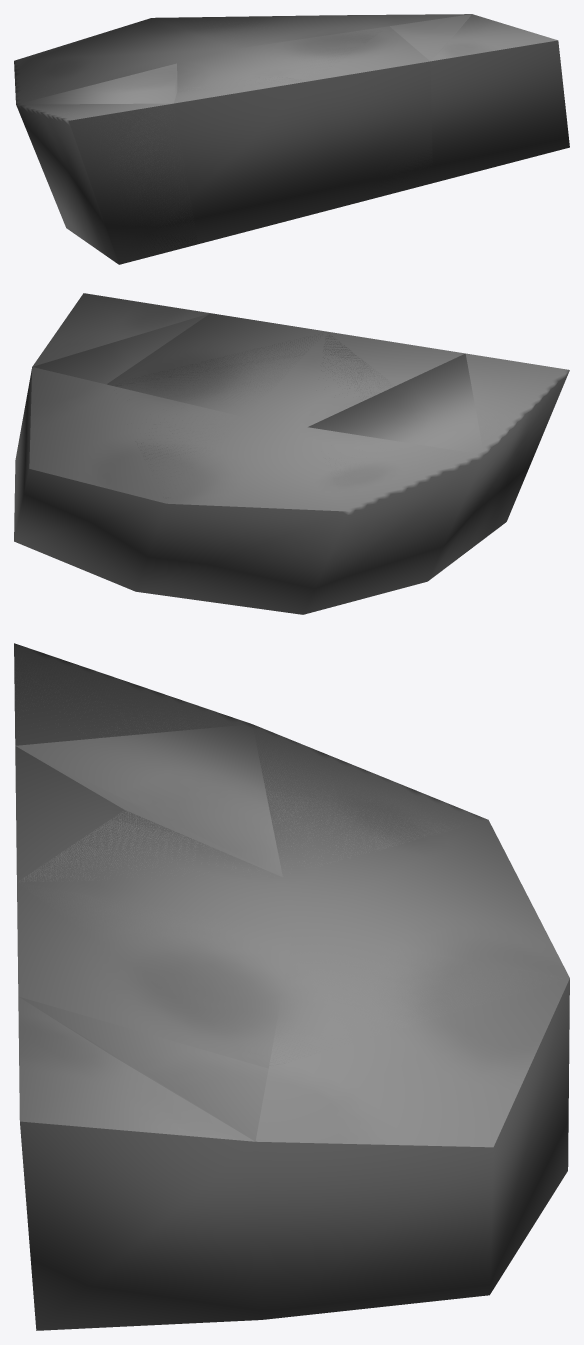
File: obj_BreadSlice.fbx
3 views of the same model, one above another, from view 1: azimuth 30°, elevation 25°; view 2: azimuth 150°, elevation 25°; view 3: azimuth 270°, elevation 25° (orthographic). The views are drawn at different scales.
Visible parts, largest first — view 1: obj_BreadToast01, obj_BreadToast02, obj_BreadToast07, obj_BreadToast03, obj_BreadToast05, obj_BreadToast06; view 2: obj_BreadToast01, obj_BreadToast03, obj_BreadToast07, obj_BreadToast02, obj_BreadToast05, obj_BreadToast06; view 3: obj_BreadToast01, obj_BreadToast03, obj_BreadToast07, obj_BreadToast02, obj_BreadToast06, obj_BreadToast05, obj_BreadToast04.
Part boxes in pixels (box(x1,y1,x2,y2)): obj_BreadToast01: box(14, 14, 569, 264); obj_BreadToast02: box(314, 14, 471, 205); obj_BreadToast07: box(16, 63, 197, 264); obj_BreadToast03: box(156, 18, 429, 80); obj_BreadToast05: box(235, 30, 381, 79); obj_BreadToast06: box(14, 63, 307, 104); obj_BreadToast01: box(14, 293, 569, 614); obj_BreadToast03: box(107, 313, 326, 501); obj_BreadToast07: box(308, 353, 567, 454); obj_BreadToast02: box(33, 313, 209, 384); obj_BreadToast05: box(115, 332, 325, 415); obj_BreadToast06: box(321, 333, 483, 510); obj_BreadToast01: box(14, 643, 569, 1330); obj_BreadToast03: box(17, 882, 567, 1068); obj_BreadToast07: box(14, 644, 282, 877); obj_BreadToast02: box(19, 997, 268, 1141); obj_BreadToast06: box(19, 725, 487, 881); obj_BreadToast05: box(20, 883, 292, 1056); obj_BreadToast04: box(270, 931, 566, 1062).
Size of the model in its own units: 0.1288 by 0.0433 by 0.0716.
